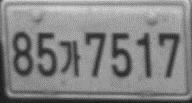1: (135, 30, 153, 80)
5: (110, 31, 132, 78), (37, 31, 57, 77)
7: (157, 31, 181, 80), (82, 31, 107, 78)
8: (11, 31, 35, 76)
가: (58, 40, 81, 78)
